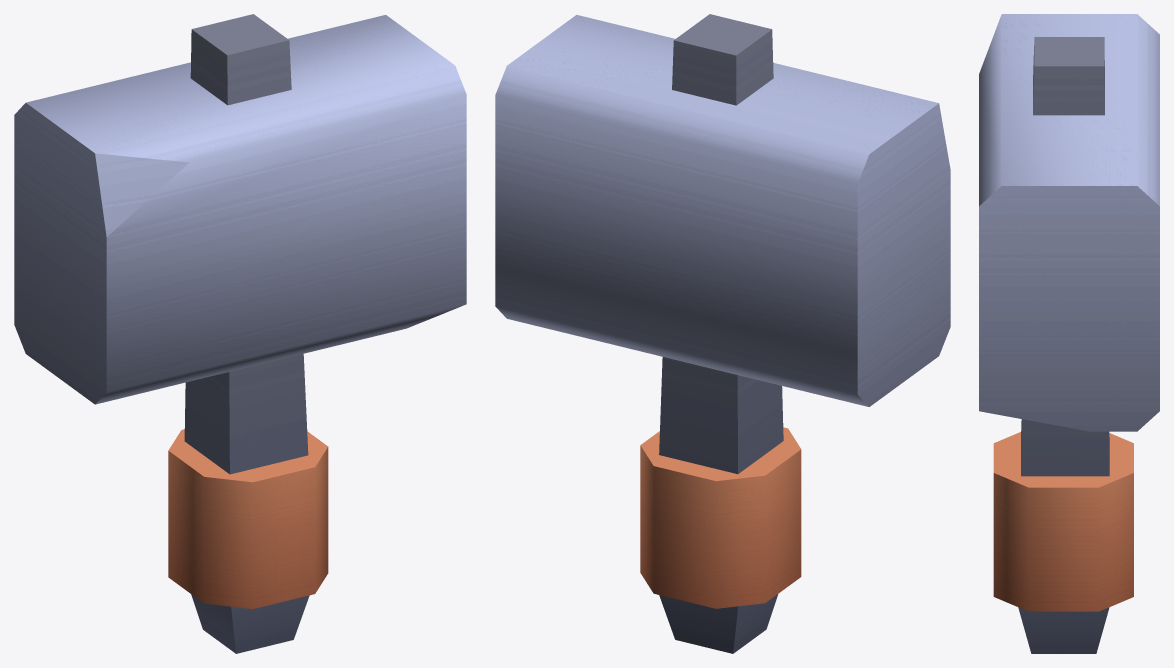
File: tool-hammer-upgraded.glb
3 views of the same model, side by side, from view 1: azimuth 30°, elevation 25°; view 2: azimuth 150°, elevation 25°; view 3: azimuth 270°, elevation 25° (orthographic). The views are drawn at different scales.
Visible parts, largest first — view 1: tool-hammer-upgraded; view 2: tool-hammer-upgraded; view 3: tool-hammer-upgraded.
Part boxes in pixels (left/top/right/bottom): tool-hammer-upgraded: left=14, top=14, right=466, bottom=653; tool-hammer-upgraded: left=495, top=14, right=950, bottom=653; tool-hammer-upgraded: left=979, top=14, right=1159, bottom=653.
Bounding box in the file's own units: 0.1161 × 0.1846 × 0.0516.
1 material, 1 textured.
